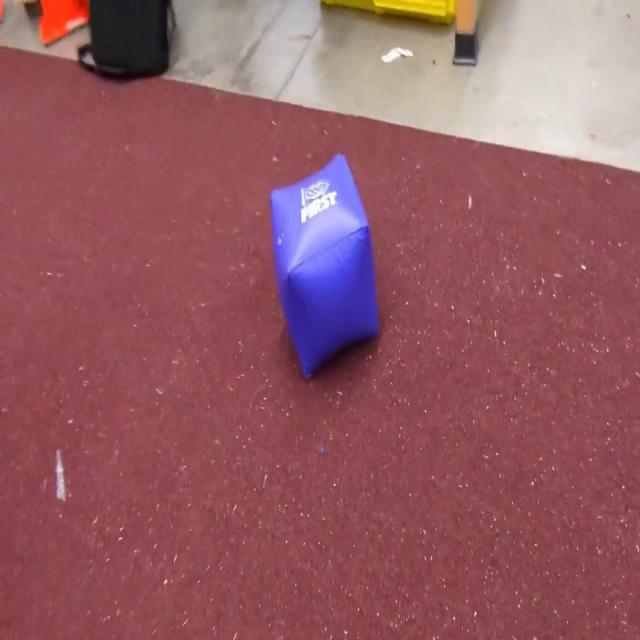frc_cube: (268, 150, 382, 382)
